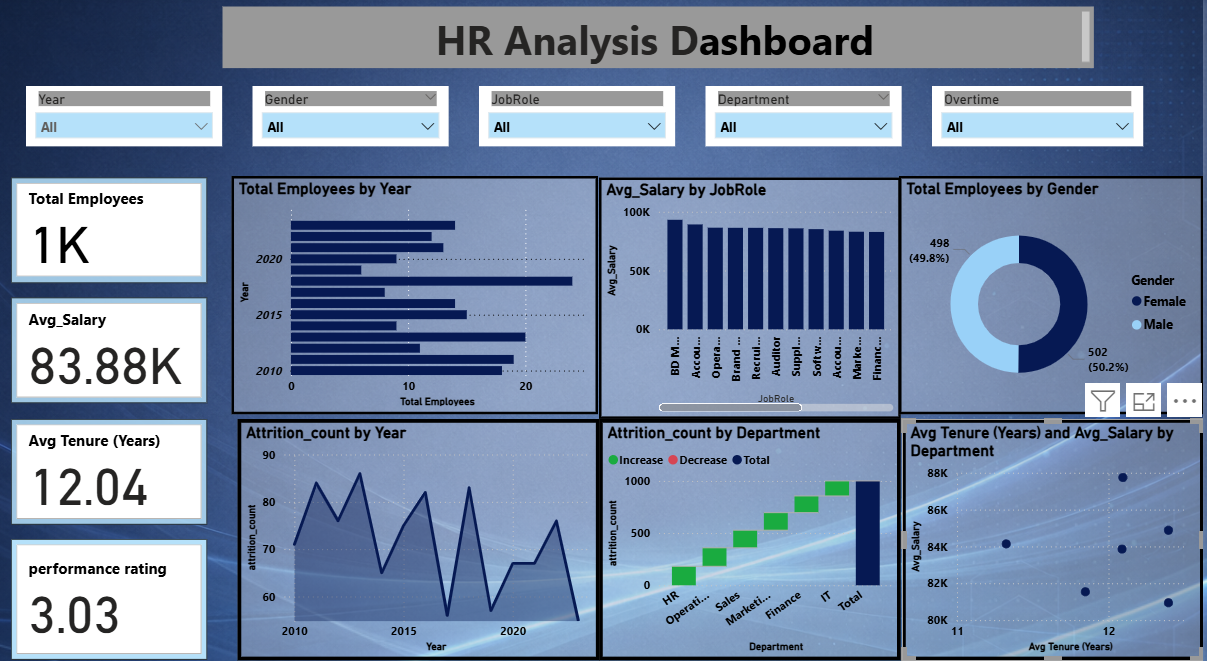

The dashboard page shown, as its layout file describes it:
{"tool":"powerbi","page":{"name":"Page 1","canvas":[1280,720],"ordinal":0},"visuals":[{"type":"cardVisual","fields":{"Data":["hr_analytics_dataset_1000_rows.Total Employees"]},"box":[16,192,208,112],"z":0},{"type":"cardVisual","fields":{"Data":["hr_analytics_dataset_1000_rows.Avg_Salary"]},"box":[16,320,208,112],"z":1000},{"type":"cardVisual","fields":{"Data":["hr_analytics_dataset_1000_rows.Avg Tenure (Years)"]},"box":[16,448,208,112],"z":2000},{"type":"cardVisual","fields":{"Data":["hr_analytics_dataset_1000_rows.performance rating"]},"box":[16,576,208,128],"z":3000},{"type":"textbox","box":[240.2,11.1,924.1,65.2],"z":4000},{"type":"slicer","fields":{"Values":["hr_analytics_dataset_1000_rows.Gender"]},"box":[272,96,208,64],"z":5000},{"type":"slicer","fields":{"Values":["hr_analytics_dataset_1000_rows.Department"]},"box":[752,96,208,64],"z":6000},{"type":"slicer","fields":{"Values":["hr_analytics_dataset_1000_rows.JobRole"]},"box":[512,96,208,64],"z":7000},{"type":"barChart","fields":{"Category":["hr_analytics_dataset_1000_rows.HiringDate.Variation.Date Hierarchy.Year"],"Y":["hr_analytics_dataset_1000_rows.Total Employees"]},"box":[249.9,191.2,388.8,252.4],"z":8000},{"type":"clusteredColumnChart","fields":{"Category":["hr_analytics_dataset_1000_rows.JobRole"],"Y":["hr_analytics_dataset_1000_rows.Avg_Salary"]},"box":[640,192,320,256],"z":9000},{"type":"donutChart","fields":{"Category":["hr_analytics_dataset_1000_rows.Gender"],"Y":["hr_analytics_dataset_1000_rows.Total Employees"]},"box":[957.5,191.2,322.5,252.4],"z":10000},{"type":"scatterChart","fields":{"X":["hr_analytics_dataset_1000_rows.Avg Tenure (Years)"],"Y":["hr_analytics_dataset_1000_rows.Avg_Salary"],"Category":["hr_analytics_dataset_1000_rows.Department"]},"box":[960,448,320,256],"z":11000},{"type":"waterfallChart","title":"Attrition_count by Department","fields":{"Category":["hr_analytics_dataset_1000_rows.Department"],"Y":["hr_analytics_dataset_1000_rows.attrition_count"]},"box":[640,448,320,256],"z":12000},{"type":"areaChart","title":"Attrition_count by Year","fields":{"Category":["hr_analytics_dataset_1000_rows.HiringDate.Variation.Date Hierarchy.Year"],"Y":["hr_analytics_dataset_1000_rows.attrition_count"]},"box":[256,448,384,256],"z":13000},{"type":"slicer","fields":{"Values":["hr_analytics_dataset_1000_rows.Overtime"]},"box":[992,96,224,64],"z":14000},{"type":"slicer","fields":{"Values":["hr_analytics_dataset_1000_rows.HiringDate.Variation.Date Hierarchy.Year"]},"box":[32,96,208,64],"z":15000}]}

Visuals, with their boxes in screenshot pixels (x1, y1, x2, y2), scaled from the page's 1280x720 canvas onto the 1207x661 screenshot:
cardVisual - hr_analytics_dataset_1000_rows.Total Employees: <bbox>15, 176, 211, 279</bbox>
cardVisual - hr_analytics_dataset_1000_rows.Avg_Salary: <bbox>15, 294, 211, 397</bbox>
cardVisual - hr_analytics_dataset_1000_rows.Avg Tenure (Years): <bbox>15, 411, 211, 514</bbox>
cardVisual - hr_analytics_dataset_1000_rows.performance rating: <bbox>15, 529, 211, 646</bbox>
textbox: <bbox>227, 10, 1098, 70</bbox>
slicer - hr_analytics_dataset_1000_rows.Gender: <bbox>256, 88, 453, 147</bbox>
slicer - hr_analytics_dataset_1000_rows.Department: <bbox>709, 88, 905, 147</bbox>
slicer - hr_analytics_dataset_1000_rows.JobRole: <bbox>483, 88, 679, 147</bbox>
barChart - hr_analytics_dataset_1000_rows.HiringDate.Variation.Date Hierarchy.Year x hr_analytics_dataset_1000_rows.Total Employees: <bbox>236, 176, 602, 407</bbox>
clusteredColumnChart - hr_analytics_dataset_1000_rows.JobRole x hr_analytics_dataset_1000_rows.Avg_Salary: <bbox>604, 176, 905, 411</bbox>
donutChart - hr_analytics_dataset_1000_rows.Gender x hr_analytics_dataset_1000_rows.Total Employees: <bbox>903, 176, 1206, 407</bbox>
scatterChart - hr_analytics_dataset_1000_rows.Avg Tenure (Years) x hr_analytics_dataset_1000_rows.Avg_Salary: <bbox>905, 411, 1206, 646</bbox>
"Attrition_count by Department" waterfallChart: <bbox>604, 411, 905, 646</bbox>
"Attrition_count by Year" areaChart: <bbox>241, 411, 604, 646</bbox>
slicer - hr_analytics_dataset_1000_rows.Overtime: <bbox>935, 88, 1147, 147</bbox>
slicer - hr_analytics_dataset_1000_rows.HiringDate.Variation.Date Hierarchy.Year: <bbox>30, 88, 226, 147</bbox>
